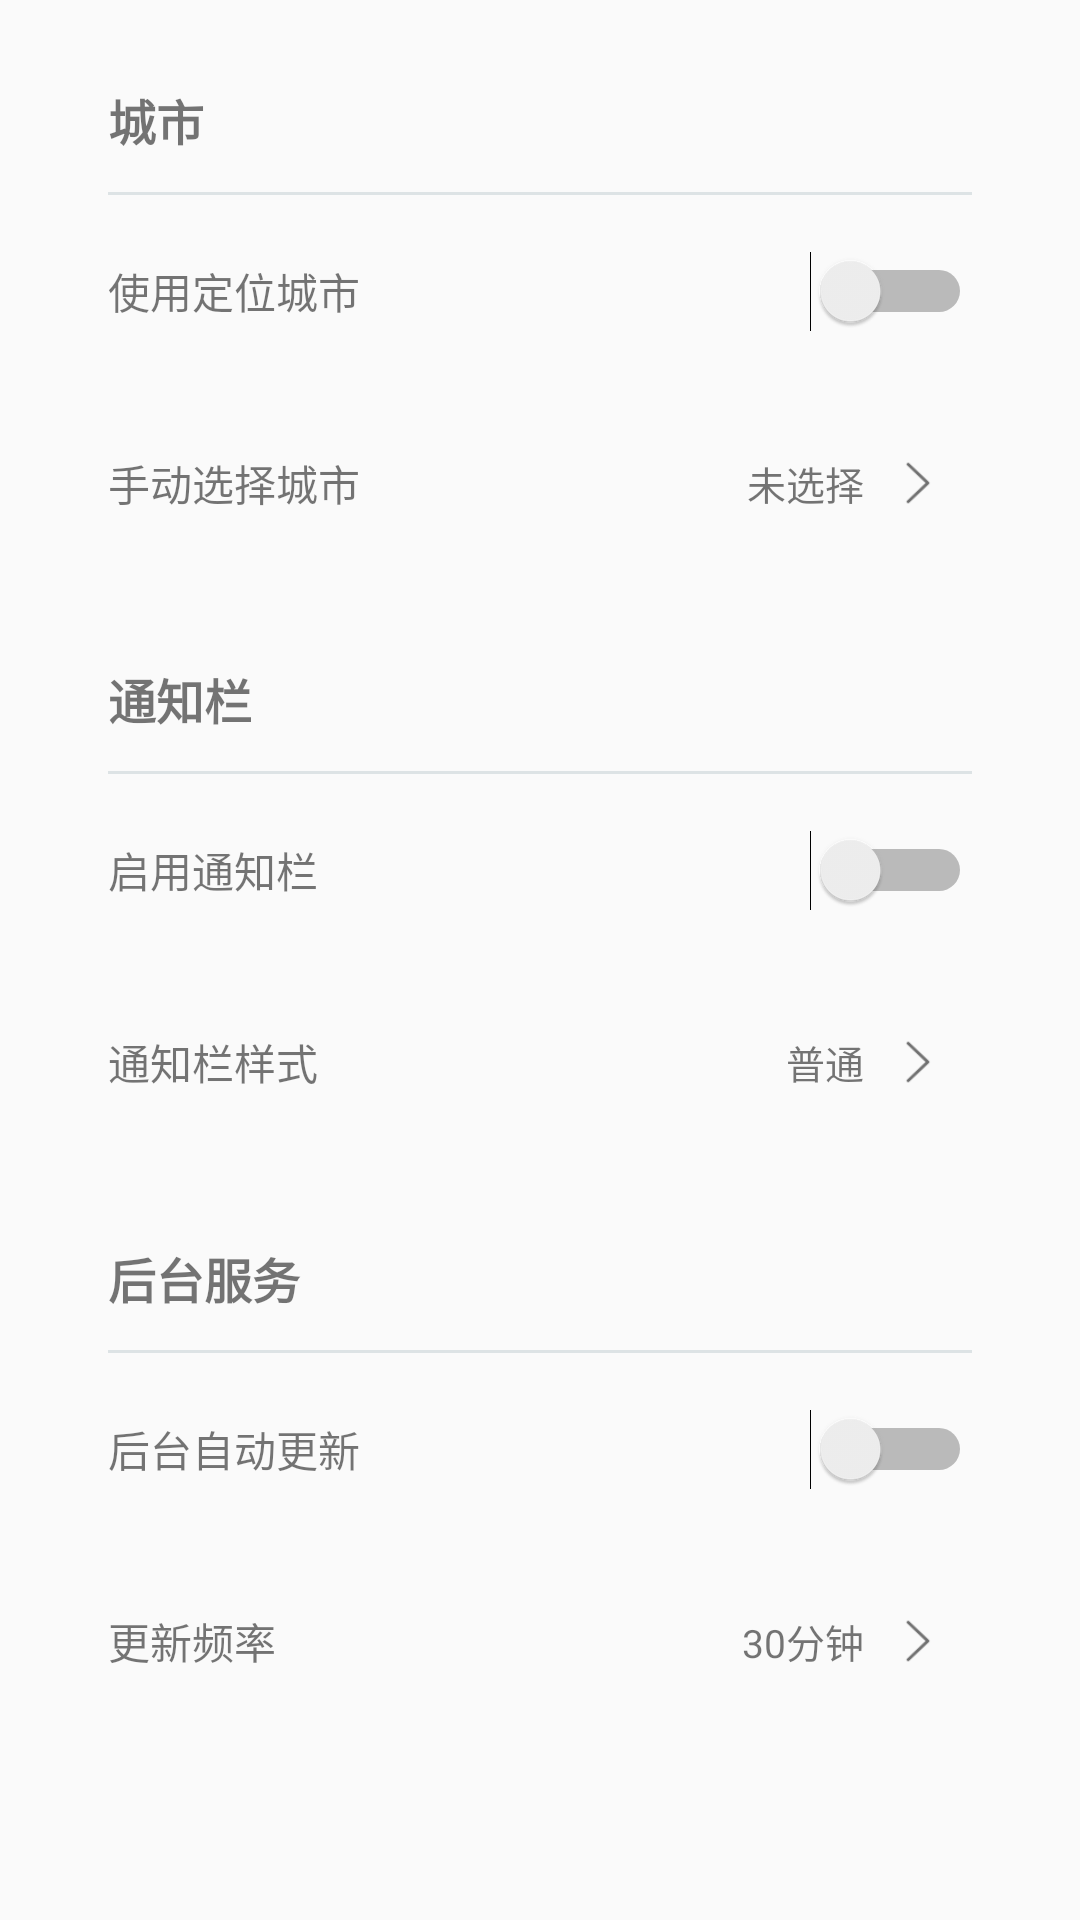

Point at icon controls on the screen. Image size 1080×1920, points as [x,y].
right select: [918,483], [918,1062], [918,1641]
